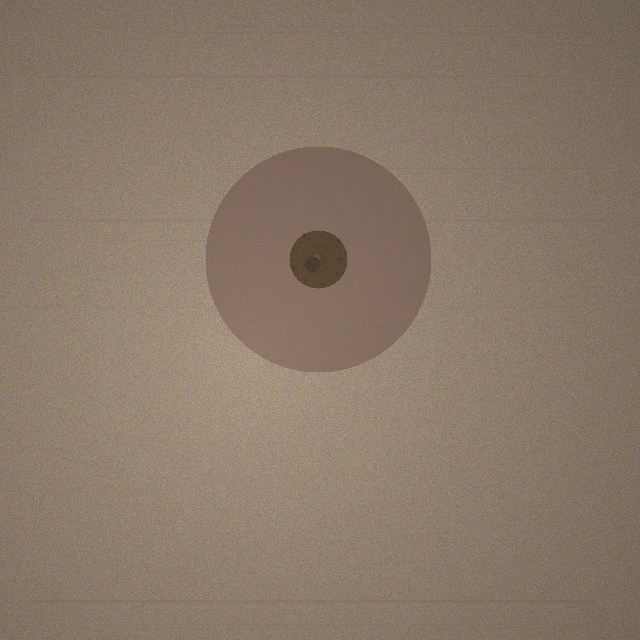cold_weld: (205, 146, 431, 372)
